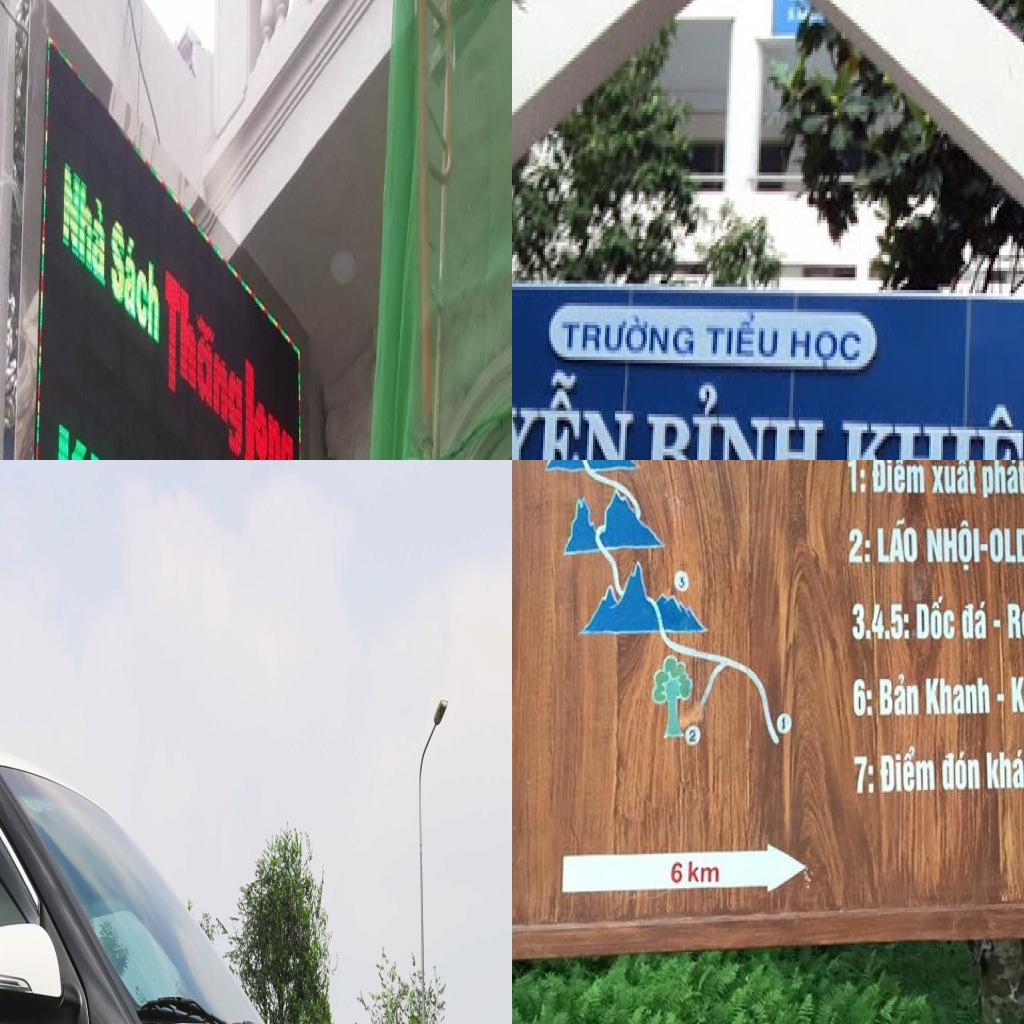text: (635, 372, 831, 460), (162, 263, 244, 460), (512, 369, 641, 460), (557, 309, 699, 363), (109, 208, 162, 351), (62, 156, 107, 292), (242, 352, 295, 460), (701, 309, 785, 366), (924, 517, 991, 578), (787, 325, 867, 376), (878, 740, 939, 797), (922, 674, 994, 718), (850, 598, 912, 643), (877, 668, 923, 722), (874, 514, 921, 565), (915, 591, 956, 643), (939, 747, 984, 793), (870, 460, 927, 494), (982, 747, 1024, 791), (980, 460, 1024, 501), (929, 460, 978, 495), (958, 594, 989, 644), (988, 525, 1024, 566), (849, 673, 876, 722), (849, 753, 876, 799), (847, 524, 873, 567), (1003, 596, 1024, 647), (685, 858, 722, 884), (846, 460, 869, 494), (1008, 672, 1024, 716), (667, 858, 686, 887), (674, 572, 688, 591), (779, 713, 791, 732), (687, 726, 698, 744)
